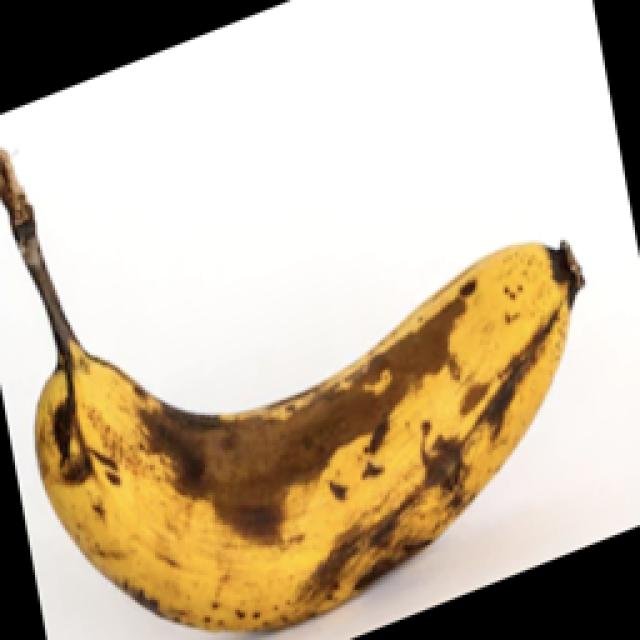Rotten_Banana: (15, 237, 640, 618)
